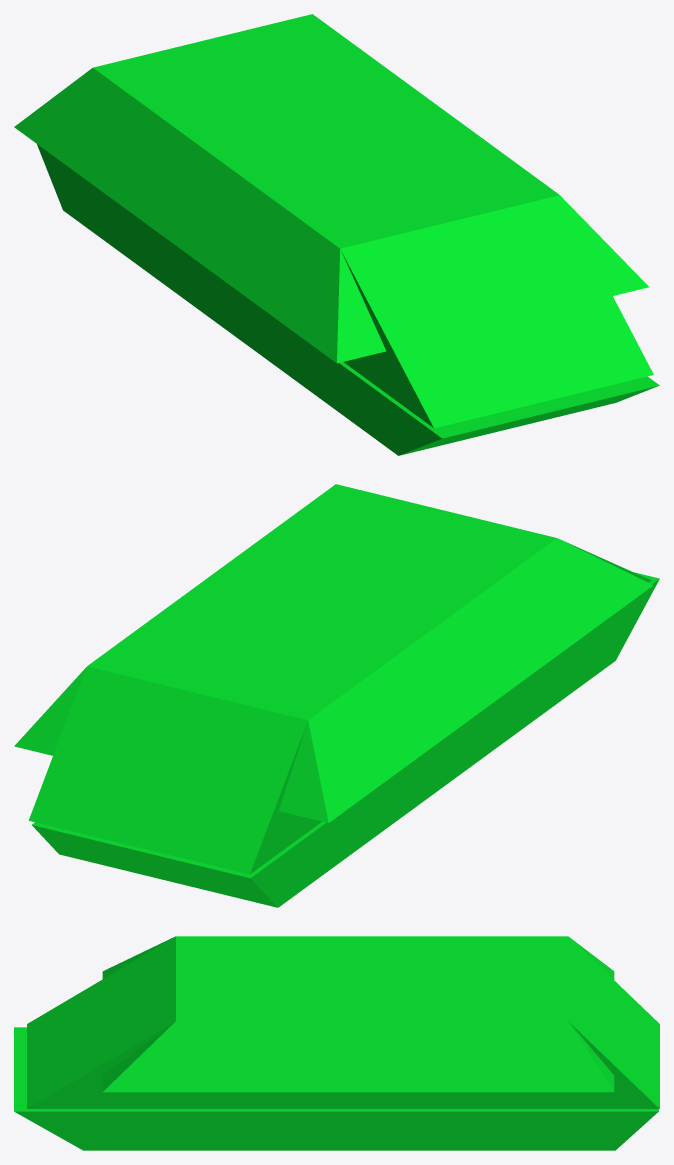
File: TankCollider.fbx
3 renders of one model, top to bottom at view 1: azimuth 30°, elevation 25°; view 2: azimuth 150°, elevation 25°; view 3: azimuth 270°, elevation 25°, orthographic. The views are drawn at different scales.
Visible parts, largest first — view 1: UpperMed, Upper, Bottom; view 2: Upper, UpperMed, Bottom; view 3: Upper, UpperMed, Bottom.
Boxes of the visible parts, x1,y1,x2,y2 form: UpperMed: [93, 14, 653, 428]; Upper: [14, 14, 649, 363]; Bottom: [37, 144, 659, 455]; Upper: [14, 484, 653, 822]; UpperMed: [29, 484, 651, 874]; Bottom: [32, 572, 659, 907]; Upper: [102, 936, 614, 1092]; UpperMed: [27, 936, 659, 1108]; Bottom: [14, 1027, 658, 1150].
Size of what is drawn, in the model's own units: 2884 by 1451 by 6510.
